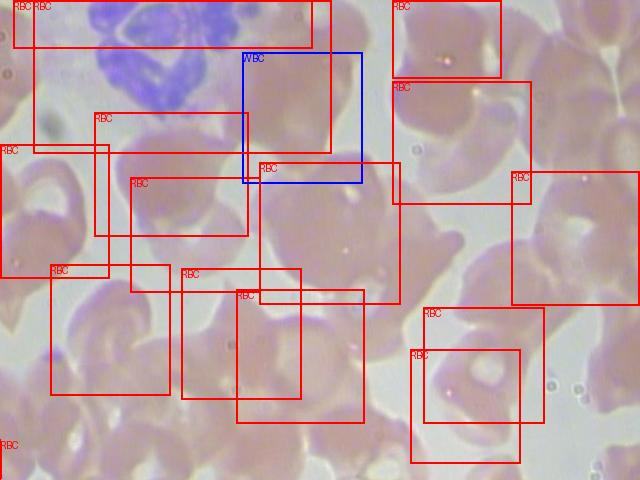RBC: (33, 0, 331, 153), (259, 162, 400, 304), (94, 112, 248, 236), (511, 171, 639, 305), (236, 289, 364, 423), (392, 81, 531, 204), (50, 264, 170, 395), (181, 268, 301, 399), (130, 177, 260, 292), (0, 144, 109, 278), (13, 0, 312, 48), (423, 307, 544, 423), (410, 349, 520, 463), (392, 0, 501, 78)
WBC: (242, 52, 362, 183)
